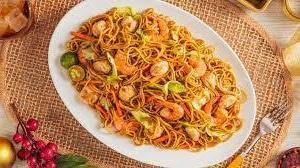pancit bihon: (68, 8, 242, 148)
